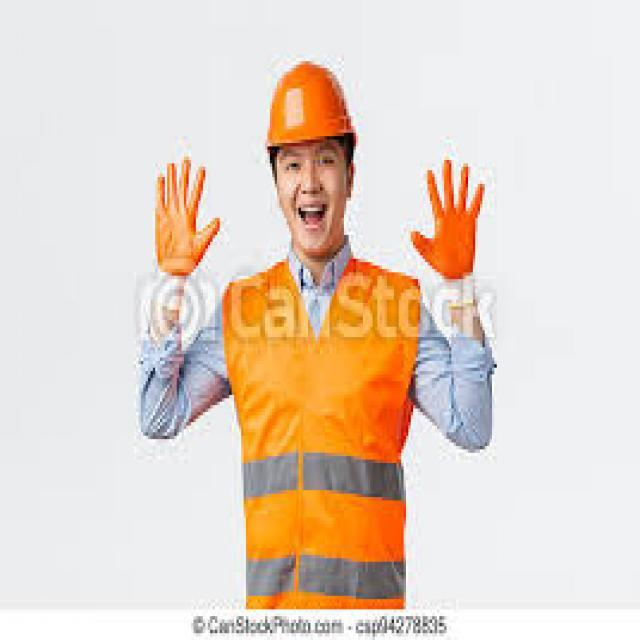reflective_jacket: (217, 251, 427, 609)
safety_helmet: (262, 54, 363, 153)
